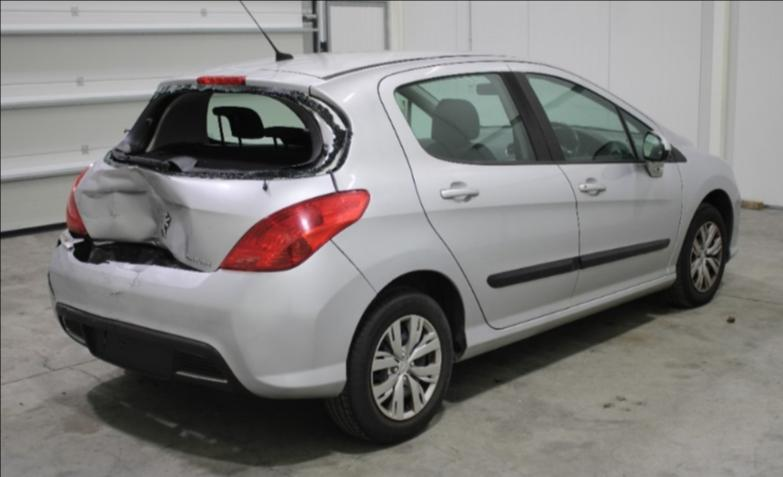Broken part: (45, 229, 375, 398)
Dent: (77, 166, 191, 263)
Missing part: (104, 84, 348, 179)
Paint chip: (113, 263, 139, 289), (110, 289, 125, 295)
